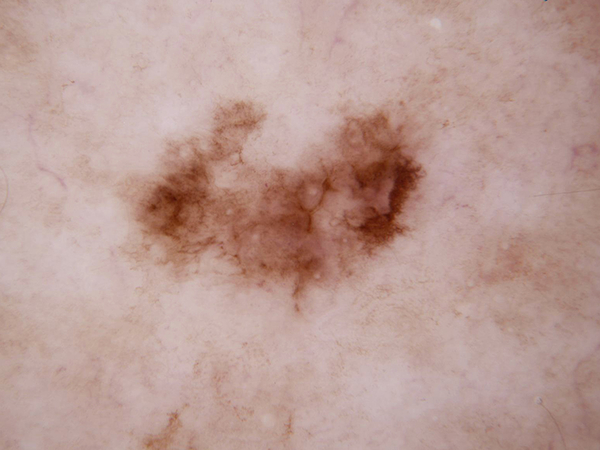Detected Lesion: (126, 101, 447, 309)
